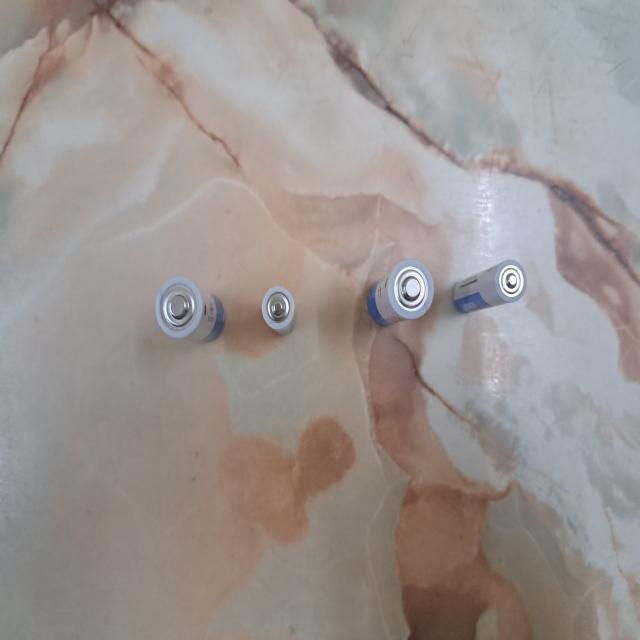battery: (156, 276, 226, 344), (367, 258, 435, 328), (453, 259, 528, 314), (262, 285, 296, 336)
